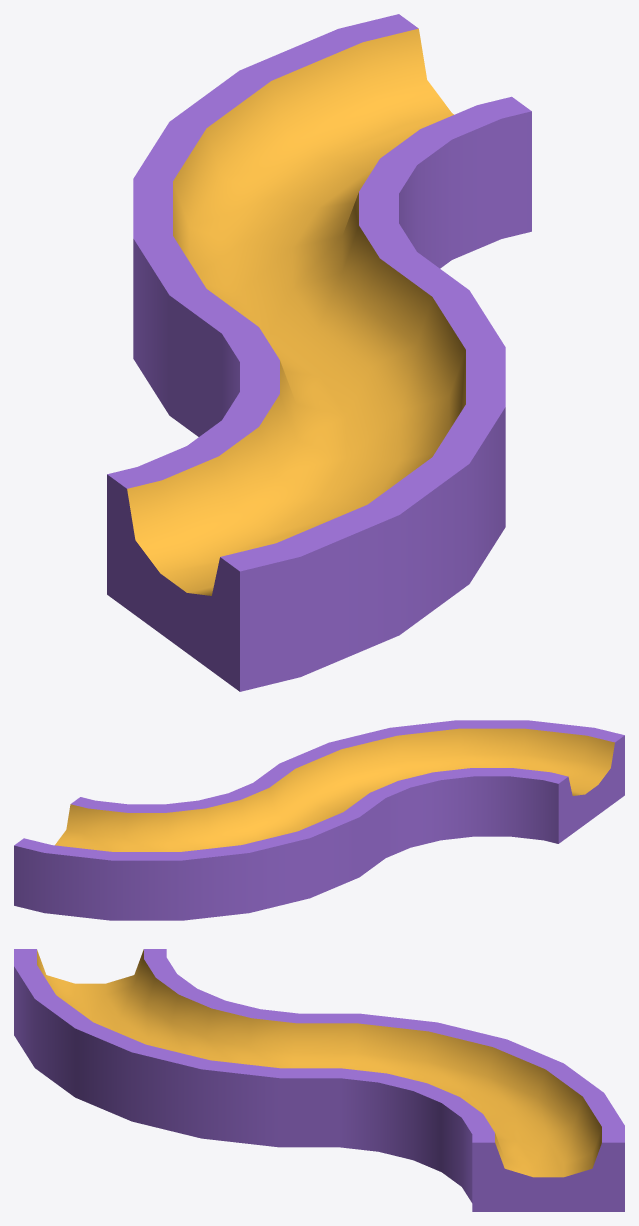
Rendered from s-curve-left-col.glb.
3 views of the same model, one above another, from view 1: azimuth 30°, elevation 25°; view 2: azimuth 150°, elevation 25°; view 3: azimuth 270°, elevation 25° (orthographic). The views are drawn at different scales.
Visible parts, largest first — view 1: s-curve-left-col; view 2: s-curve-left-col; view 3: s-curve-left-col.
Part boxes in pixels (x1=…): s-curve-left-col: x1=107, y1=14, x2=531, y2=691; s-curve-left-col: x1=14, y1=720, x2=624, y2=920; s-curve-left-col: x1=14, y1=949, x2=624, y2=1211.
Bounding box in the file's own units: 3 × 0.5 × 4.
1 material, 1 textured.
